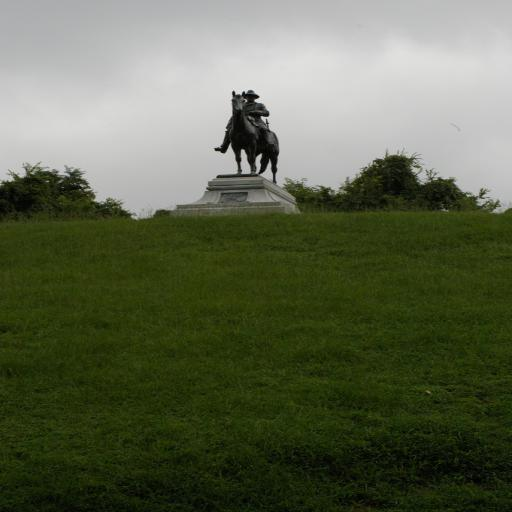Horse: (225, 90, 282, 183)
